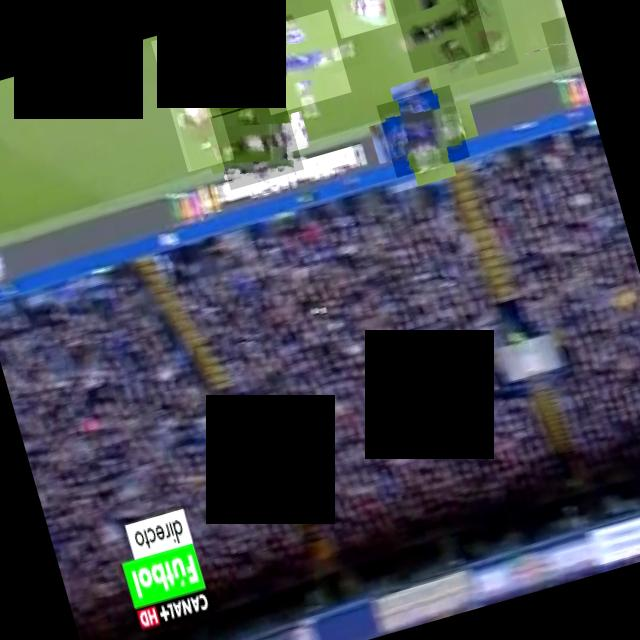referee: (390, 0, 489, 72)
soccer-player: (149, 27, 233, 171), (246, 8, 350, 114), (208, 95, 302, 189), (374, 84, 468, 176), (185, 12, 262, 118), (444, 0, 518, 74), (325, 0, 395, 38), (540, 15, 580, 72), (45, 50, 106, 86)
